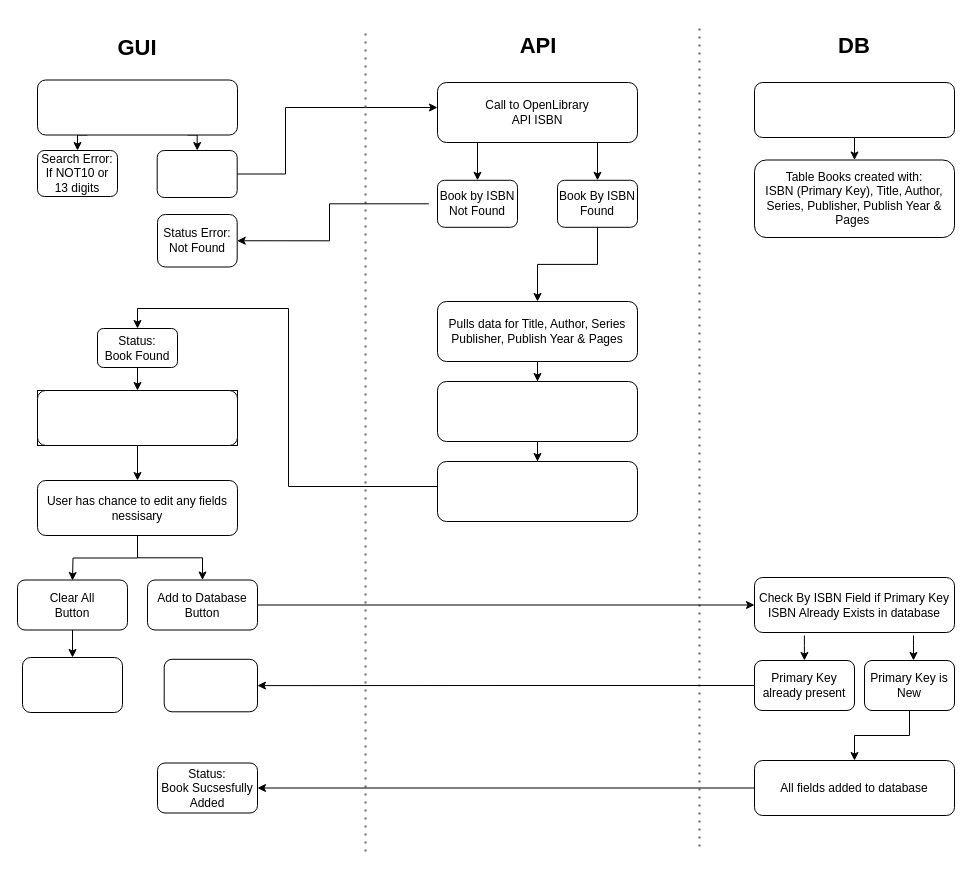
This 972x870 diagram has some shape labels left out. Here are the shapes that lost their labels. From the top down, the centre of each, then its label:
At (137,107): "GUI Scan or Type ISBN".
At (854,110): "Created on Start Up if BookHoard.DB does not exist".
At (196,174): "If 10 or 13 digits".
At (137,418): "Fields filled from API Data".
At (537,411): "Makes Second API Call to WORKS to get full author information if available".
At (537,491): "Outputs data in Book Dataclass format".
At (72,684): "Status: All Feilds Cleared".
At (210,685): "Status Error: Already In DB".
